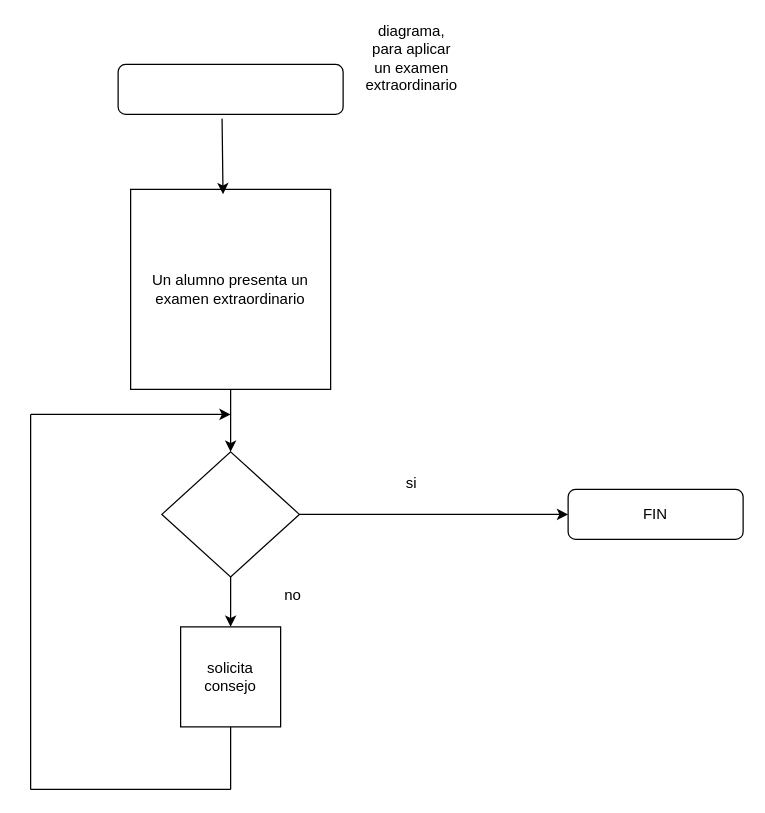
Image size: 765x813. Some labels were removed from this diagram. Here are the shapes that lost their labels. From the top down, the centre of each, then its label:
point (230, 88): INICIO
point (230, 514): aprueba el examen?
